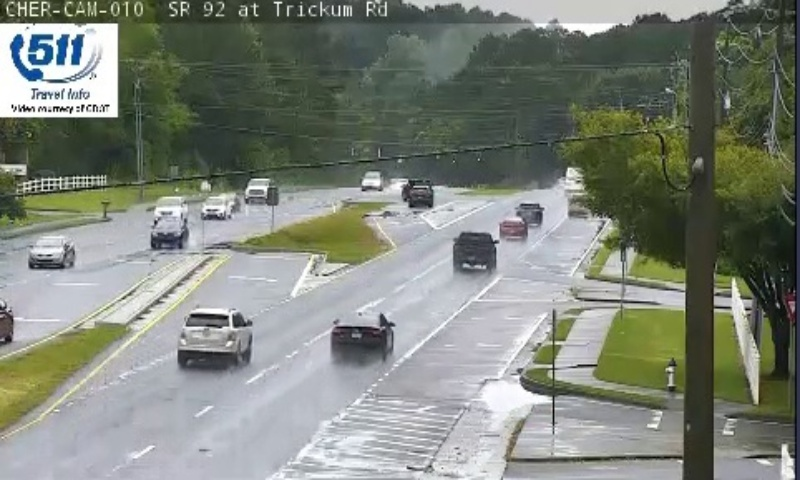car: (177, 308, 253, 364), (331, 312, 393, 355), (453, 232, 496, 267), (497, 218, 526, 240), (517, 202, 542, 225)
